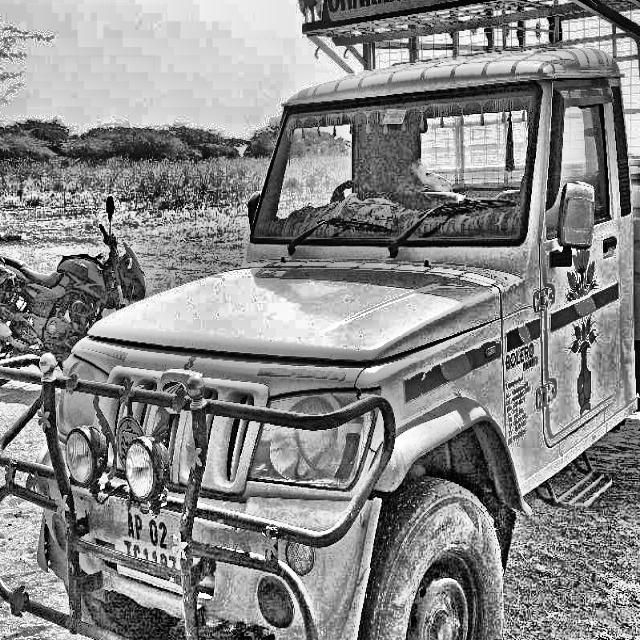light_vehicle: (41, 39, 640, 640)
